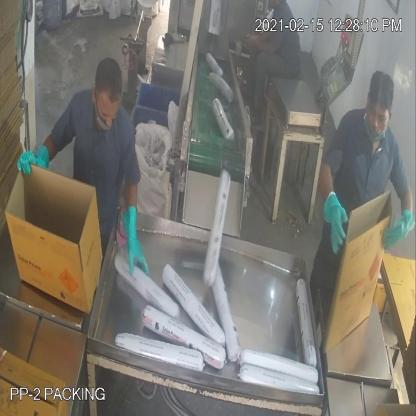glove: (314, 150, 353, 260), (115, 185, 153, 288), (376, 179, 416, 264), (5, 124, 56, 186)
no_glove: (243, 25, 283, 66)
